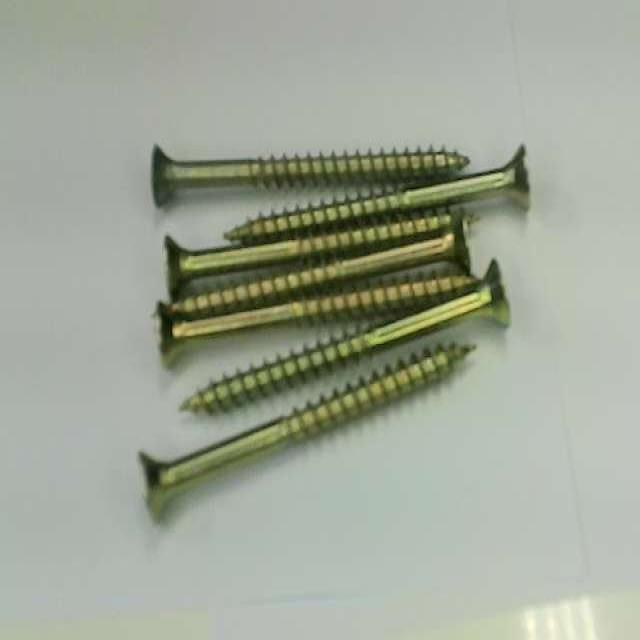Parafuso: (139, 346, 470, 518), (183, 260, 510, 413), (234, 146, 529, 237), (158, 275, 478, 355), (164, 210, 457, 295), (177, 231, 467, 311), (151, 144, 468, 207)
